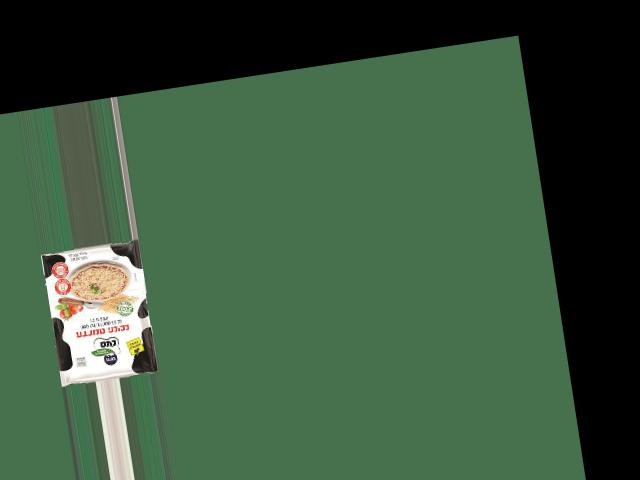cheese: (25, 245, 159, 379)
